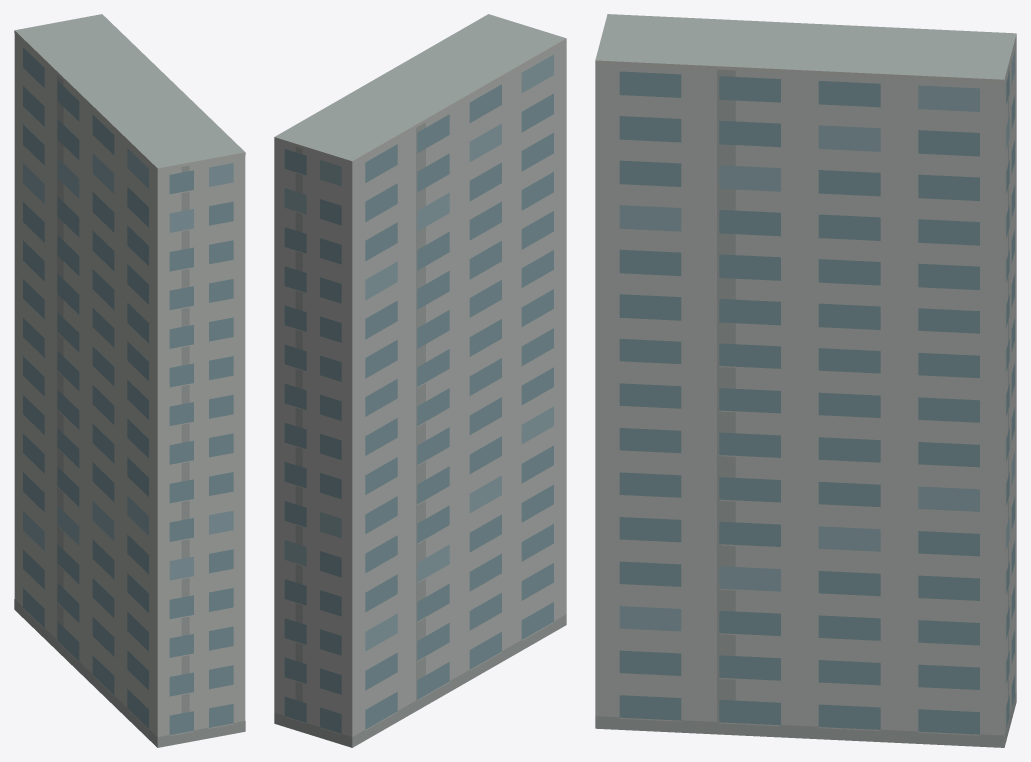
The model's file is residential-b5849a2f-4c76-4005-a625-947e616e9acc.glb.
3 renders of one model, left to right at view 1: azimuth 30°, elevation 25°; view 2: azimuth 150°, elevation 25°; view 3: azimuth 270°, elevation 25°, orthographic. The views are drawn at different scales.
Parts seen in each view (by area): view 1: residential-b5849a2f-4c76-4005-a625-947e616e9acc.tmp; view 2: residential-b5849a2f-4c76-4005-a625-947e616e9acc.tmp; view 3: residential-b5849a2f-4c76-4005-a625-947e616e9acc.tmp.
Part boxes in pixels (bbox=[...]): residential-b5849a2f-4c76-4005-a625-947e616e9acc.tmp: bbox=[14, 14, 245, 747]; residential-b5849a2f-4c76-4005-a625-947e616e9acc.tmp: bbox=[274, 14, 566, 747]; residential-b5849a2f-4c76-4005-a625-947e616e9acc.tmp: bbox=[595, 14, 1016, 747].
Size of the model in its own units: 9.92 by 47 by 26.87.
